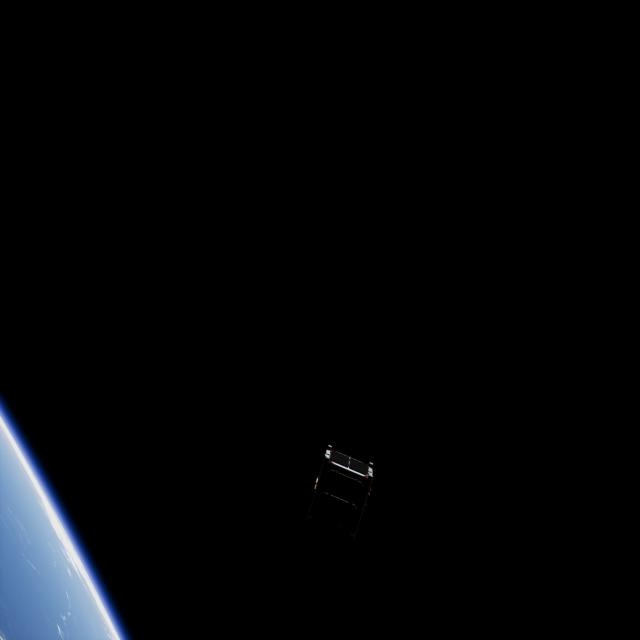medium_debris: (306, 441, 382, 519)
